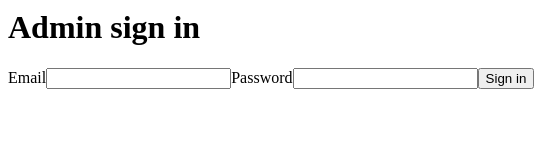
Test: access control › rejects a customer who signs in on the admin login and signs them out again
Type "c@example.com" into the field labelled "Email" at (139, 78), box [46,68,231,89]
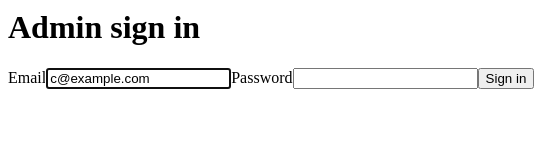
Type "pw" into the password field labelled "Password" at (385, 78), box [293,68,478,89]
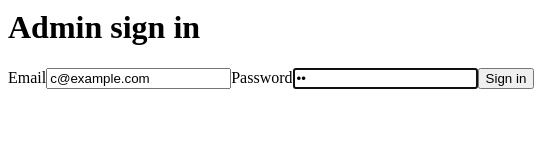
Click the button "Sign in" at (506, 78), box [478,68,534,89]
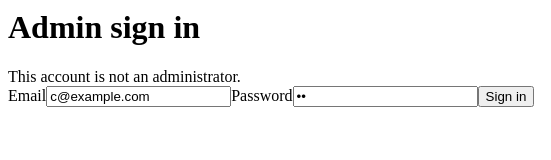
Expected: the message shows "not an administrator", [8,68,241,85]
